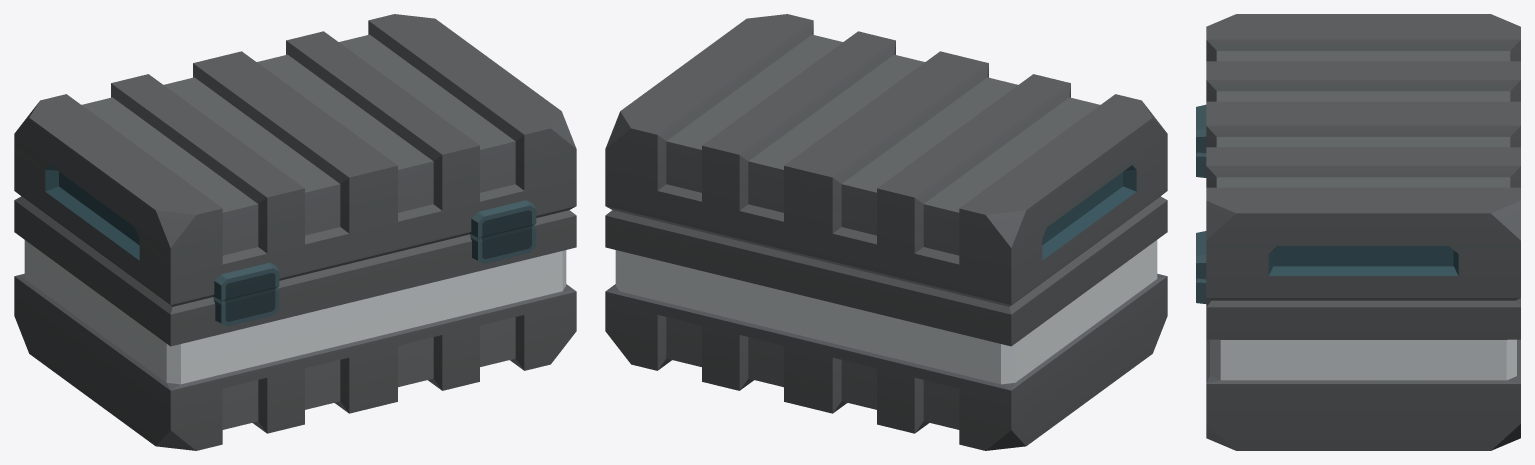
Rendered from Crate_002.glb.
The picture shows the model from 3 angles, left to right: view 1: azimuth 30°, elevation 25°; view 2: azimuth 150°, elevation 25°; view 3: azimuth 270°, elevation 25°; orthographic projection.
Visible parts, largest first — view 1: Crate_002; view 2: Crate_002; view 3: Crate_002.
Part boxes in pixels (x1=…): Crate_002: x1=14, y1=14, x2=576, y2=450; Crate_002: x1=605, y1=14, x2=1167, y2=450; Crate_002: x1=1196, y1=14, x2=1520, y2=450.
Bounding box in the file's own units: 0.9 × 0.5 × 0.6195.
1 material, 1 textured.
